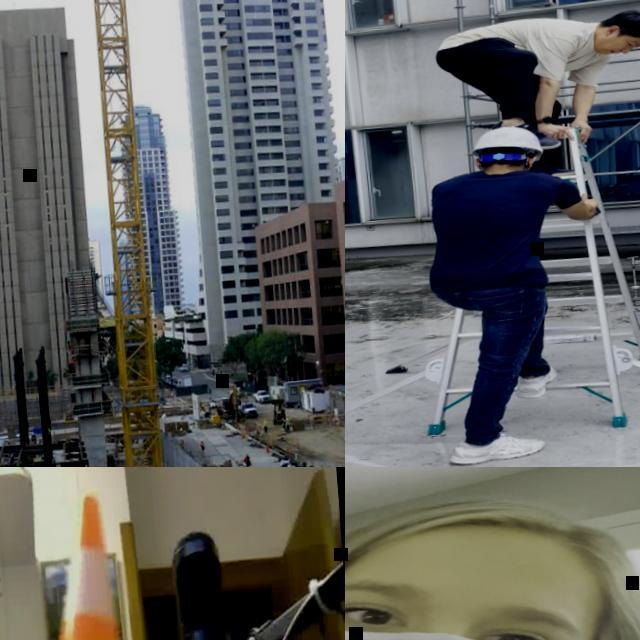helmet: (466, 120, 546, 160), (201, 437, 204, 439)
vest: (264, 419, 268, 425)
